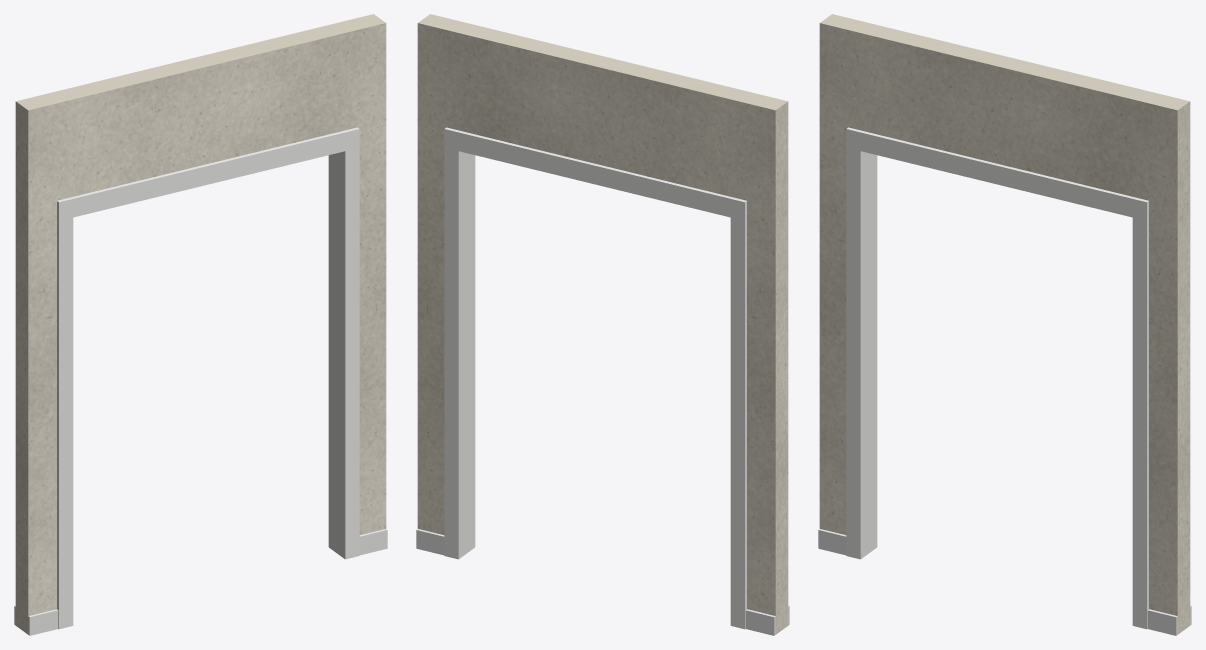
File: interior_wall_wide.glb
The picture shows the model from 3 angles, left to right: view 1: azimuth 30°, elevation 25°; view 2: azimuth 150°, elevation 25°; view 3: azimuth 330°, elevation 25°; orthographic projection.
Visible parts, largest first — view 1: interior_wall_wide_plaster, interior_wall_wide_frame, interior_wall_wide_trim; view 2: interior_wall_wide_plaster, interior_wall_wide_frame, interior_wall_wide_trim; view 3: interior_wall_wide_plaster, interior_wall_wide_frame, interior_wall_wide_trim.
Part boxes in pixels (x1=…): interior_wall_wide_plaster: x1=15, y1=14, x2=386, y2=634; interior_wall_wide_frame: x1=57, y1=127, x2=359, y2=629; interior_wall_wide_trim: x1=14, y1=529, x2=387, y2=635; interior_wall_wide_plaster: x1=417, y1=14, x2=788, y2=634; interior_wall_wide_frame: x1=444, y1=127, x2=746, y2=629; interior_wall_wide_trim: x1=416, y1=529, x2=789, y2=635; interior_wall_wide_plaster: x1=819, y1=14, x2=1190, y2=634; interior_wall_wide_frame: x1=846, y1=127, x2=1148, y2=629; interior_wall_wide_trim: x1=818, y1=529, x2=1191, y2=635.
Size of the model in its own units: 2 by 2.8 by 0.16.
Materials: 3 (1 with a texture image).
